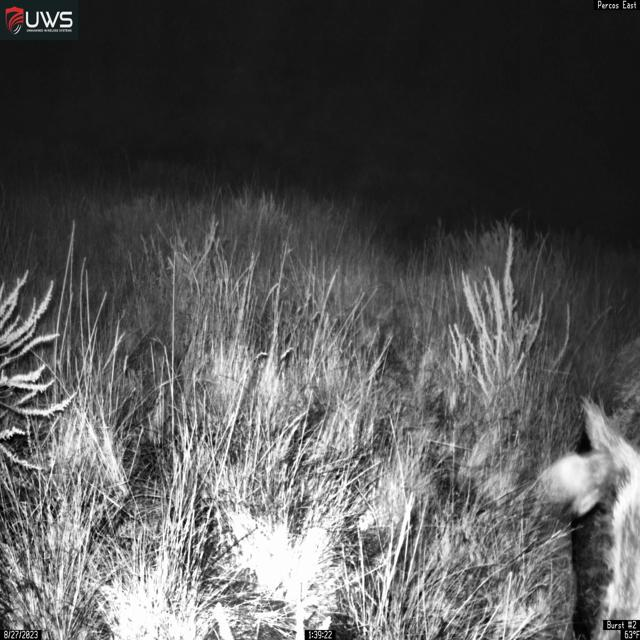pig: (541, 391, 640, 640)
